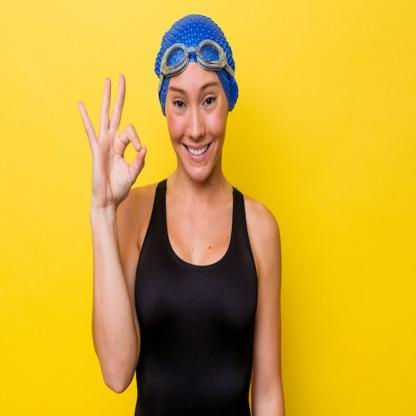ok: (76, 70, 150, 212)
